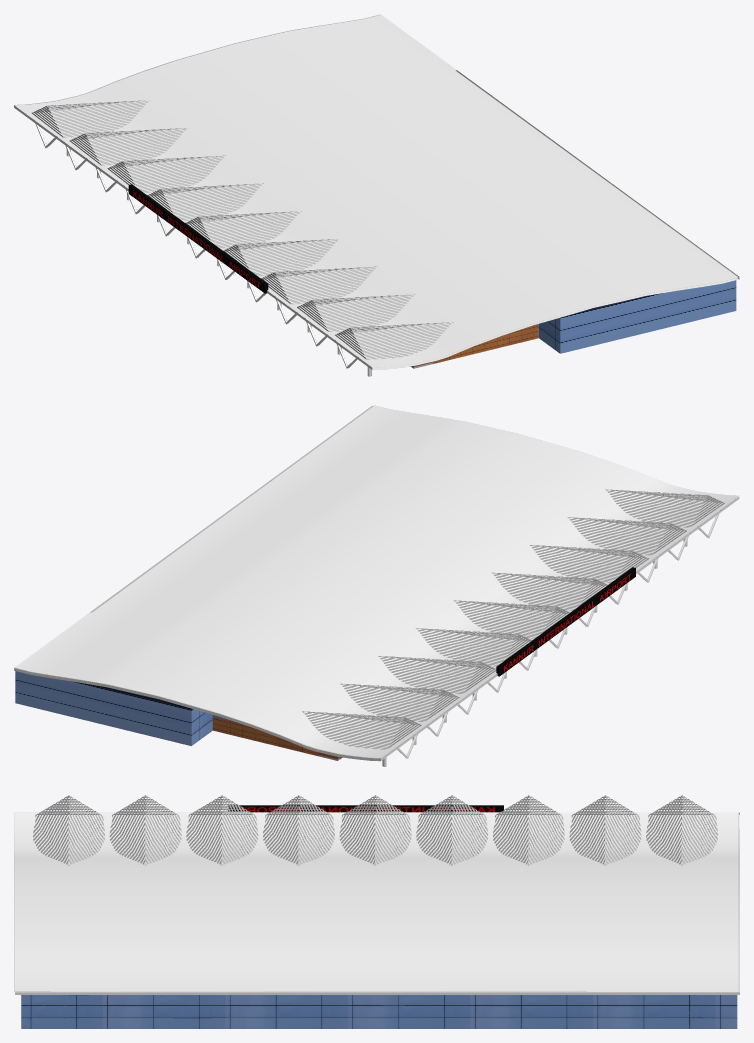
The model's file is AirportModel.fbx.
3 renders of one model, top to bottom at view 1: azimuth 30°, elevation 25°; view 2: azimuth 150°, elevation 25°; view 3: azimuth 270°, elevation 25°, orthographic.
Visible parts, largest first — view 1: TOP__ROOF, airport_building, board; view 2: TOP__ROOF, airport_building, board; view 3: TOP__ROOF, airport_building, board.
Boxes of the visible parts, bbox=[...] form: TOP__ROOF: bbox=[14, 14, 739, 376]; airport_building: bbox=[411, 280, 736, 368]; board: bbox=[128, 184, 268, 293]; TOP__ROOF: bbox=[14, 405, 739, 766]; airport_building: bbox=[15, 671, 342, 760]; board: bbox=[496, 567, 635, 676]; TOP__ROOF: bbox=[14, 795, 739, 994]; airport_building: bbox=[21, 995, 737, 1028]; board: bbox=[228, 805, 503, 812].
Size of the model in its own units: 5014 by 709 by 8453.
